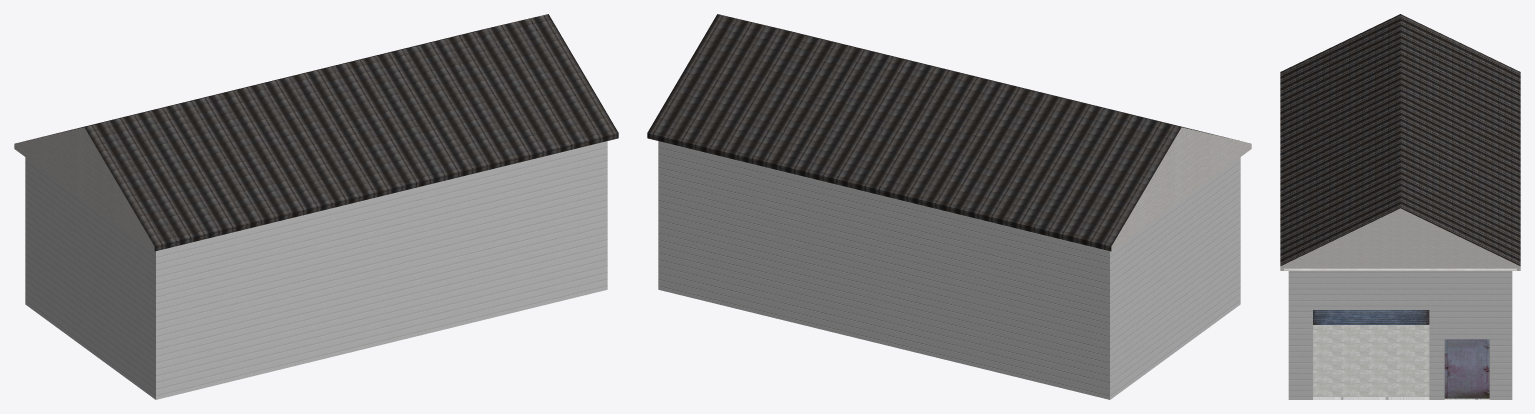
The model's file is garage.fbx.
3 renders of one model, left to right at view 1: azimuth 30°, elevation 25°; view 2: azimuth 150°, elevation 25°; view 3: azimuth 270°, elevation 25°, orthographic. The views are drawn at different scales.
Parts seen in each view (by area): view 1: Box, Cube; view 2: Box, Cube; view 3: Cube, Box.
Part boxes in pixels (box(x1,y1,x2,y2)): Box: box(25, 141, 607, 399); Cube: box(14, 14, 618, 251); Box: box(658, 141, 1240, 399); Cube: box(647, 14, 1251, 251); Cube: box(1280, 14, 1520, 270); Box: box(1288, 271, 1512, 399).
Bounding box in the file's own units: 1234 × 586 × 646.
8 materials, 8 textured.
